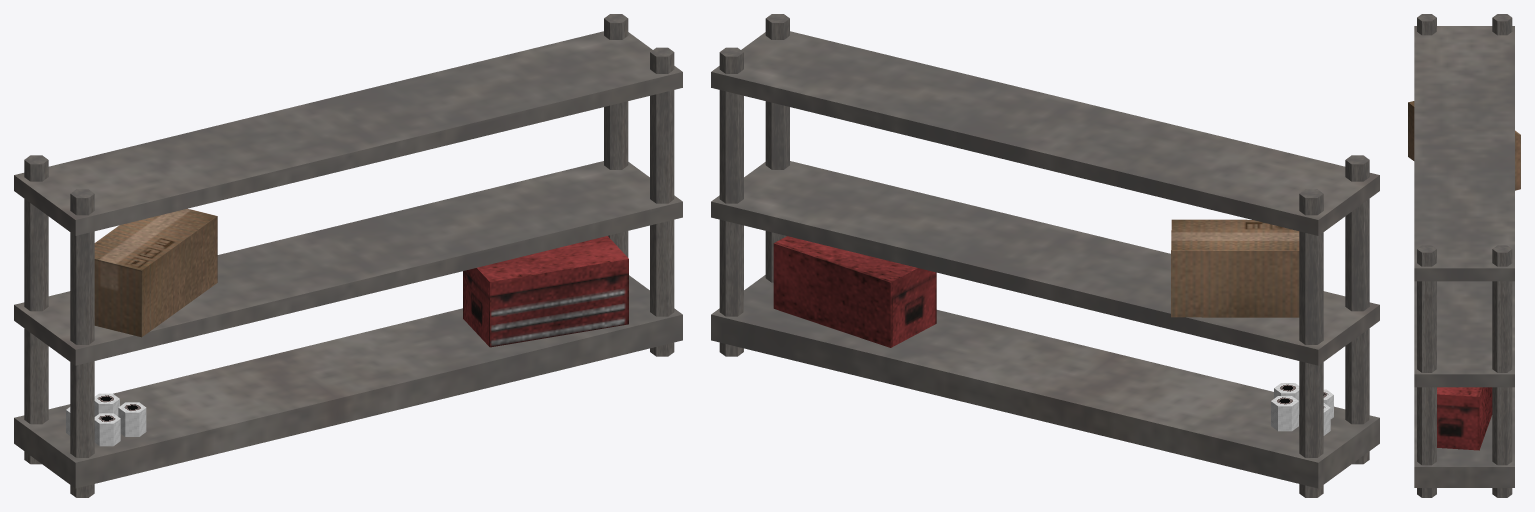
File: Estante.glb
The picture shows the model from 3 angles, left to right: view 1: azimuth 30°, elevation 25°; view 2: azimuth 150°, elevation 25°; view 3: azimuth 270°, elevation 25°; orthographic projection. The views are drawn at different scales.
Parts seen in each view (by area): view 1: Cylinder.002; view 2: Cylinder.002; view 3: Cylinder.002.
Boxes of the visible parts, x1,y1,x2,y2 form: Cylinder.002: [14, 14, 682, 497]; Cylinder.002: [711, 14, 1379, 497]; Cylinder.002: [1408, 14, 1520, 497].
Size of the model in its own units: 3.79 by 1.79 by 0.7456.
4 materials, 4 textured.
